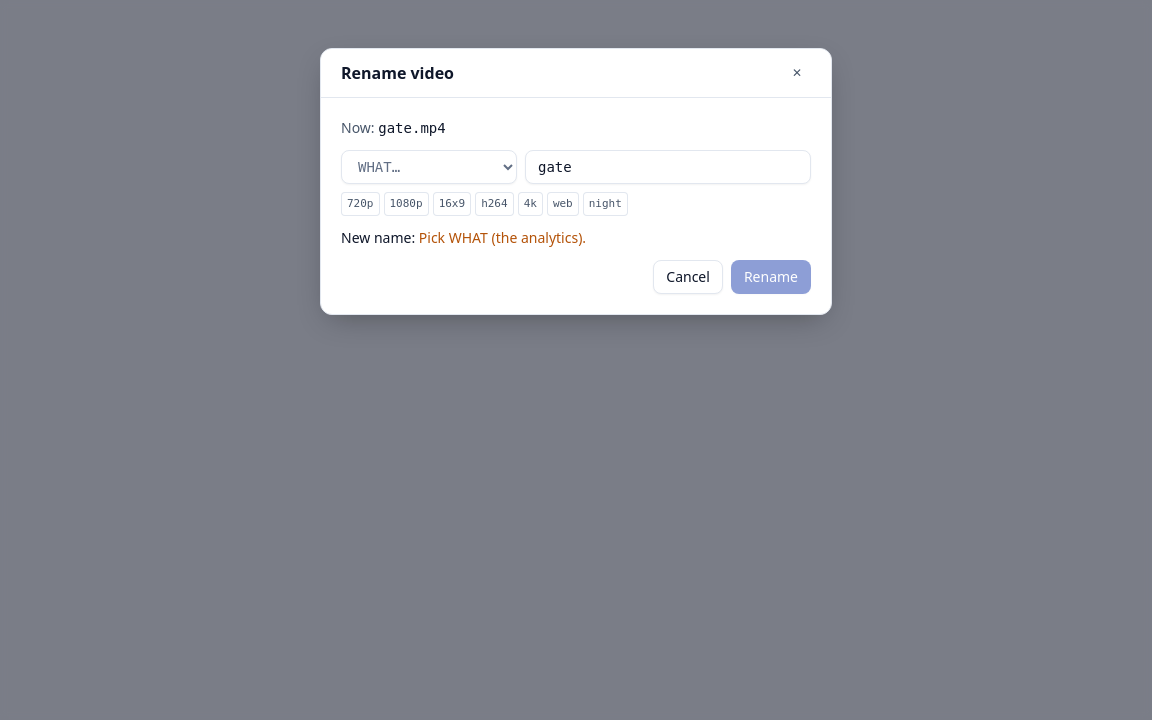
Test: naming in the dashboard › shows a name as chips, flags other names, and renames
The width and height of the screenshot is (1152, 720).
Earlier steps of the test are not shown.
Later steps or results of the test are not shown.
Select "ALPR — VehicleALPR" in the dropdown named "WHAT (analytics)" at (429, 167), box [341, 150, 517, 184]
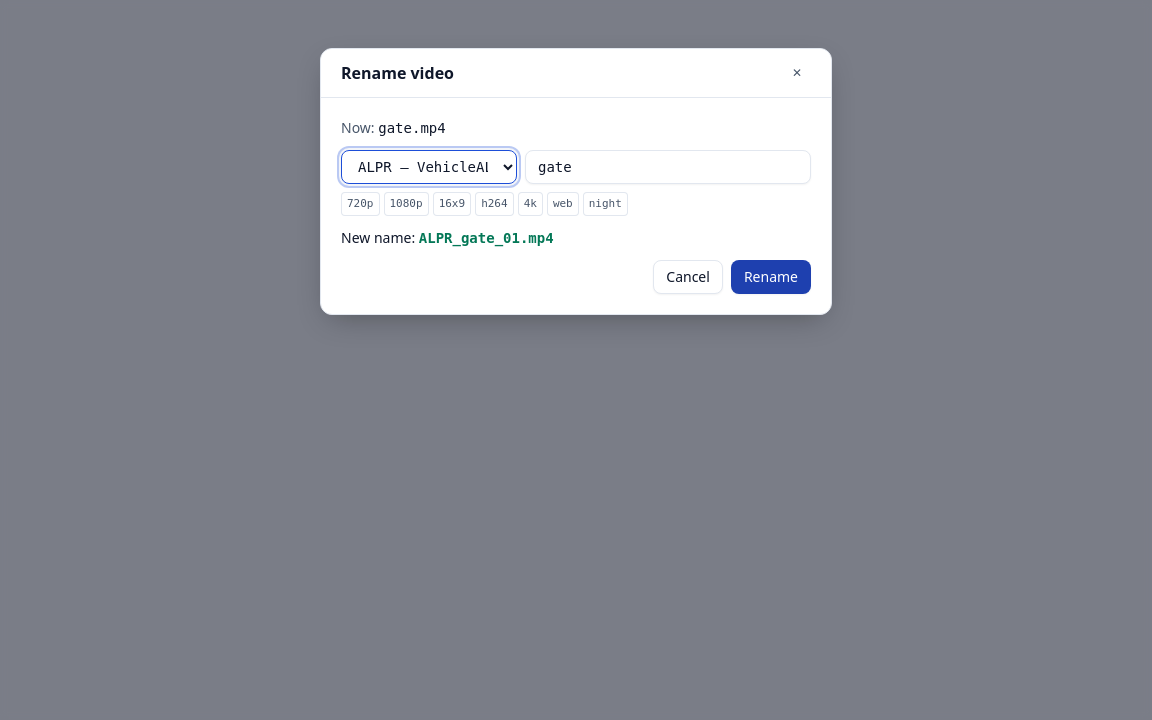
Replace the text in the field named "WHERE (site or camera)" with "gate5" at (668, 167), box [525, 150, 811, 184]
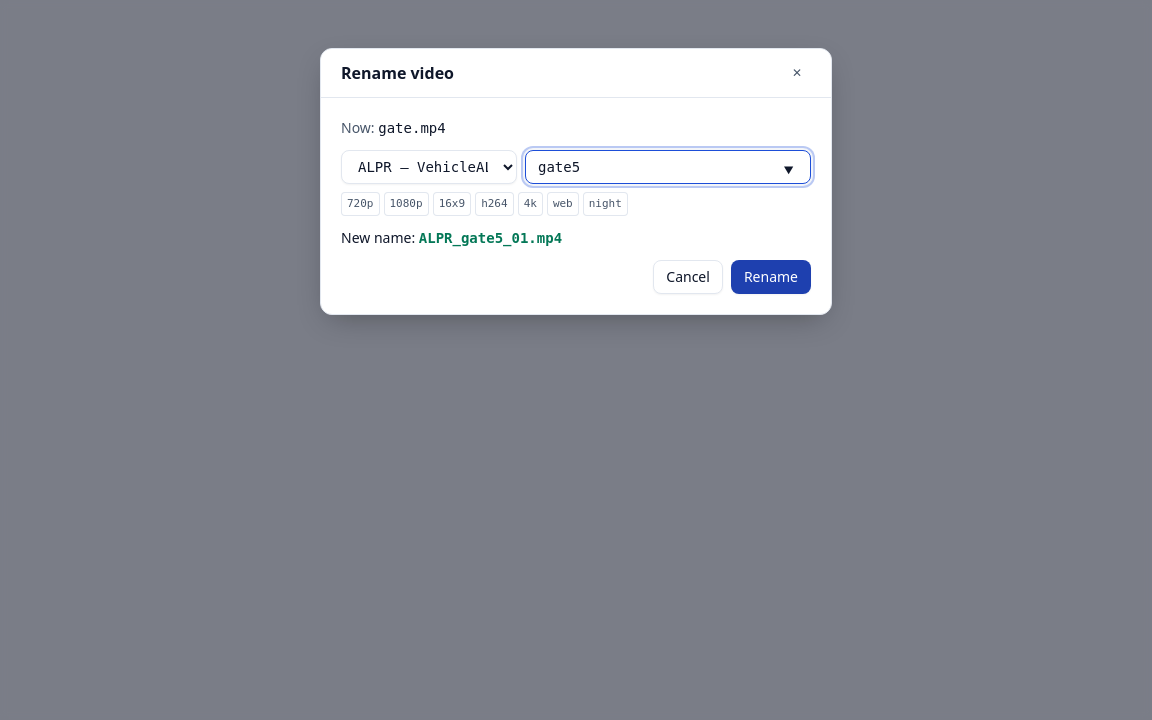
Now the text with test id "final-name" reads "ALPR_gate5_01.mp4", box [419, 230, 562, 246]
